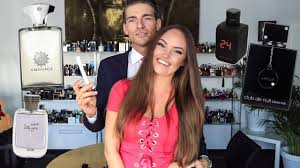middle_eastern_male: (122, 3, 157, 37)
